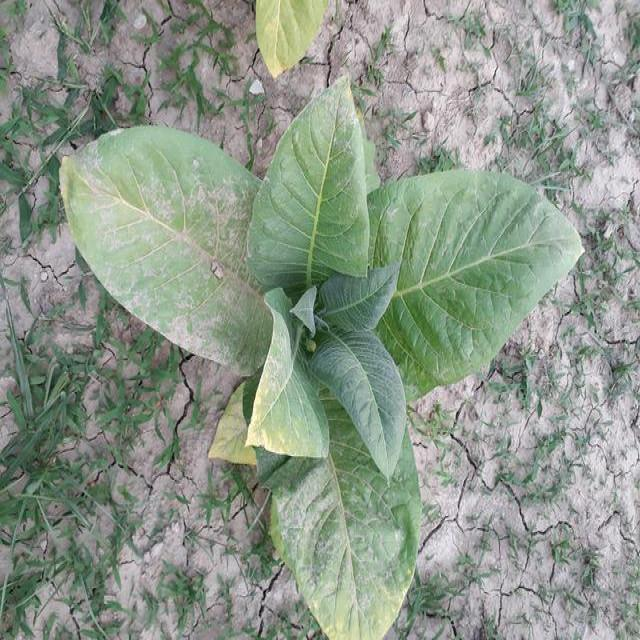crop: (60, 118, 572, 635)
